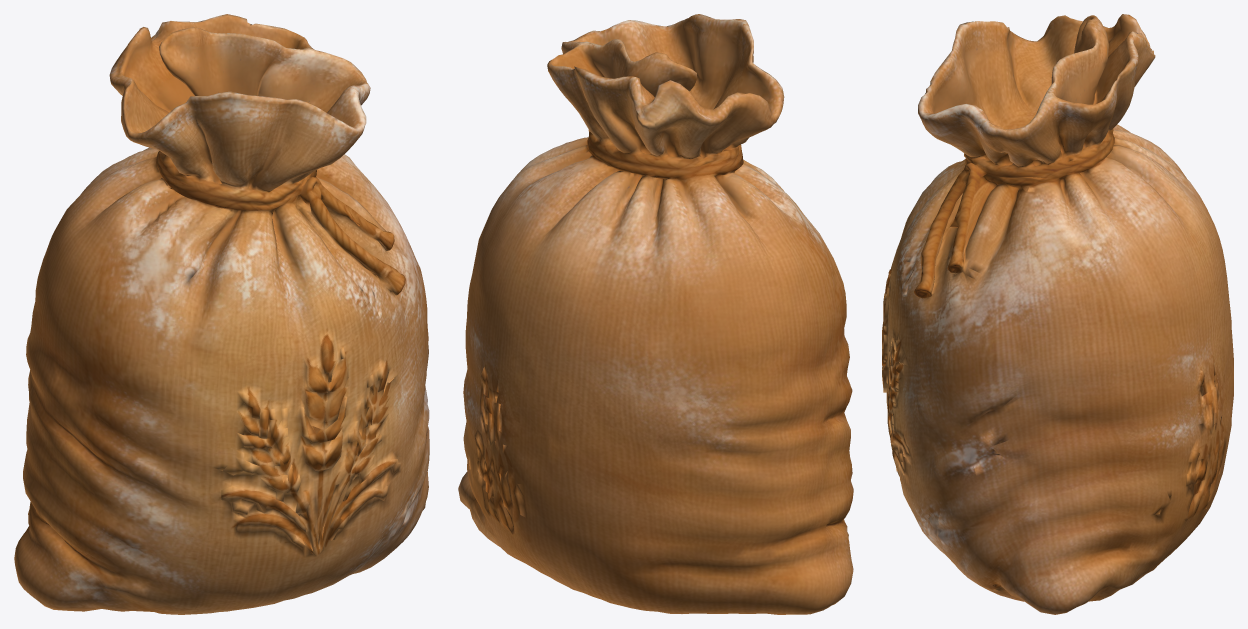
Rendered from flour_sack.glb.
3 renders of one model, left to right at view 1: azimuth 30°, elevation 25°; view 2: azimuth 150°, elevation 25°; view 3: azimuth 270°, elevation 25°, orthographic. The views are drawn at different scales.
Visible parts, largest first — view 1: tripo_node_77583455-f2ac-45f5-b393-bf40a234a9ed; view 2: tripo_node_77583455-f2ac-45f5-b393-bf40a234a9ed; view 3: tripo_node_77583455-f2ac-45f5-b393-bf40a234a9ed.
Boxes of the visible parts, x1,y1,x2,y2 form: tripo_node_77583455-f2ac-45f5-b393-bf40a234a9ed: [14, 14, 429, 614]; tripo_node_77583455-f2ac-45f5-b393-bf40a234a9ed: [458, 14, 853, 614]; tripo_node_77583455-f2ac-45f5-b393-bf40a234a9ed: [882, 14, 1233, 614].
Bounding box in the file's own units: 0.7368 × 0.978 × 0.599.
Materials: 1 (1 with a texture image).
